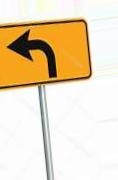left: (1, 19, 79, 81)
